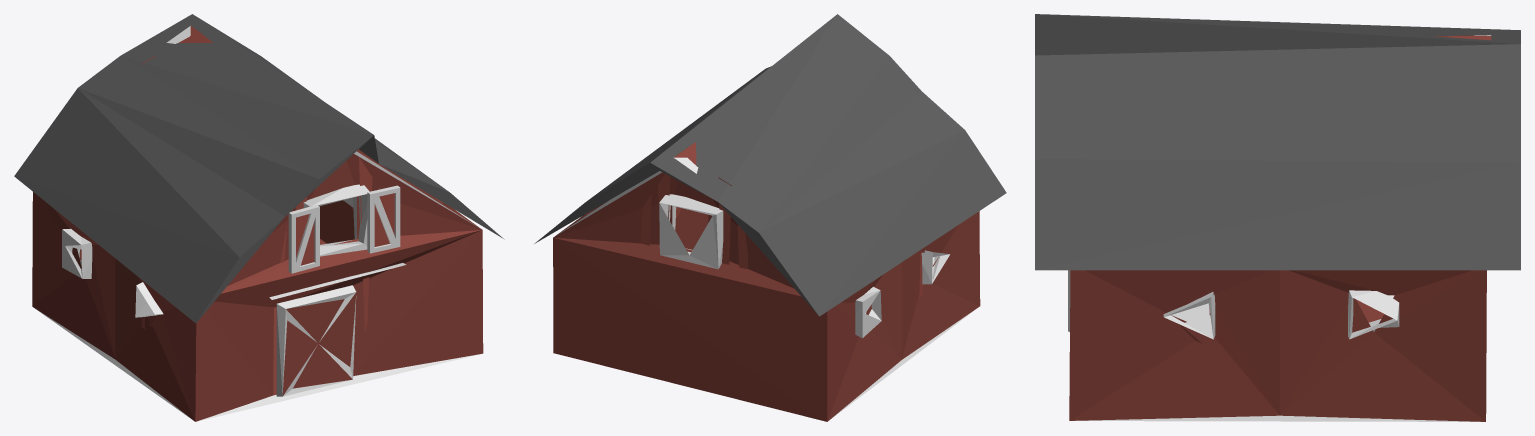
File: SmallBarn.lod2.glb
3 views of the same model, side by side, from view 1: azimuth 30°, elevation 25°; view 2: azimuth 150°, elevation 25°; view 3: azimuth 270°, elevation 25° (orthographic). The views are drawn at different scales.
Parts seen in each view (by area): view 1: Small_Barn, Small_Barn_Door, SmallBarn_Window, SmallBarn_Window2; view 2: Small_Barn; view 3: Small_Barn.
Part boxes in pixels (box(x1,y1,x2,y2)): Small_Barn: box(14, 14, 504, 421); Small_Barn_Door: box(276, 285, 356, 396); SmallBarn_Window: box(367, 185, 400, 253); SmallBarn_Window2: box(288, 205, 319, 273); Small_Barn: box(534, 14, 1006, 421); Small_Barn: box(1035, 14, 1520, 421).
Bounding box in the file's own units: 5.91 × 4.75 × 6.27.
